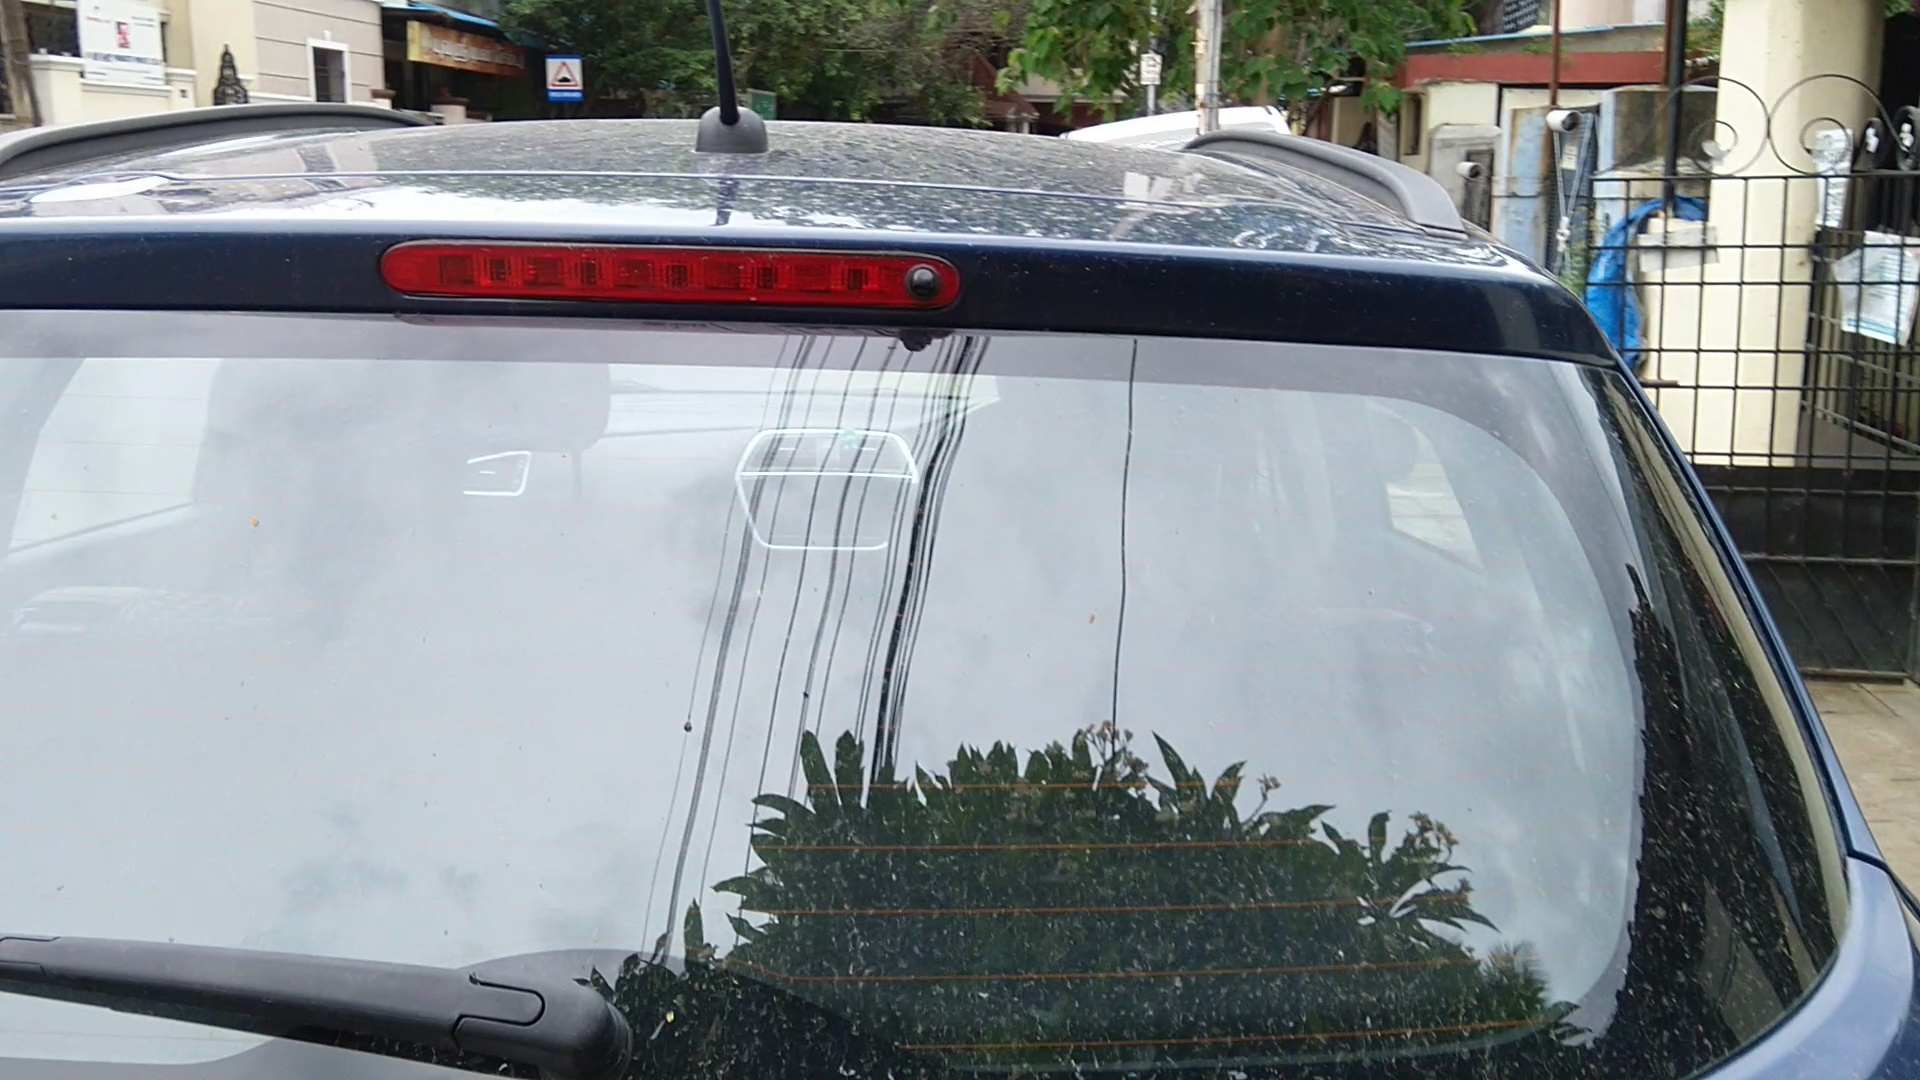rear_camera: (894, 258, 949, 309)
